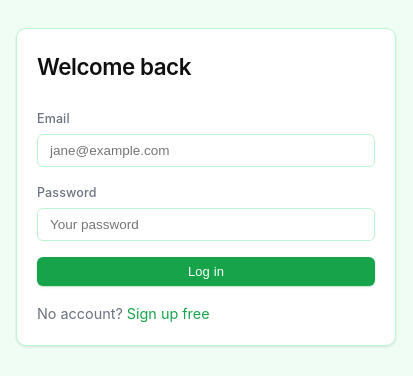
Test case: Login › shows error when password field is empty on submit
Type "test@test.com" into the field labelled "Email".
click(206, 150); type("test@test.com")  # box x1=37 y1=134 x2=375 y2=167
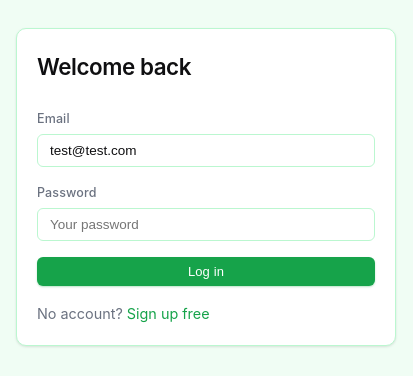
Click the button "Log in".
click(206, 271)  # box x1=37 y1=256 x2=375 y2=286
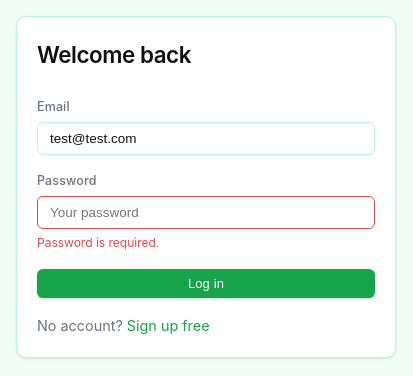
Check: the text "Password is required." is shown, box x1=37 y1=235 x2=159 y2=250
